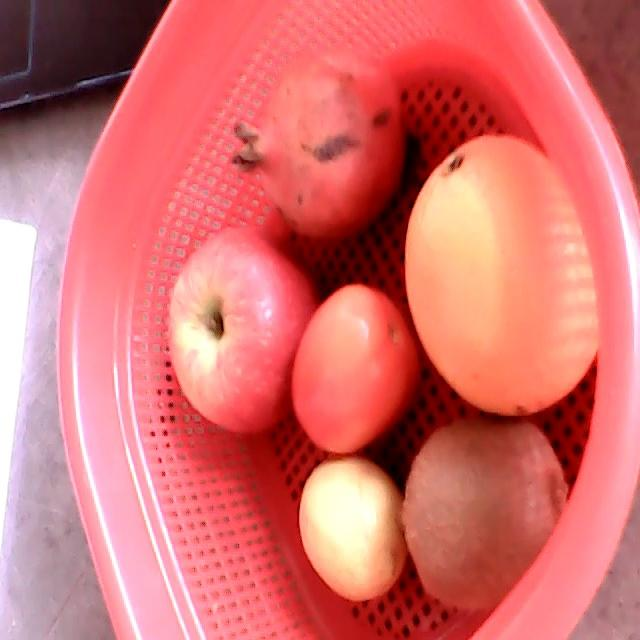apple: (167, 227, 320, 440)
kiwi: (398, 417, 569, 612)
lemon: (299, 456, 407, 602)
orange: (404, 133, 598, 415)
pomegranate: (233, 44, 408, 237)
tomato: (293, 284, 419, 454)
